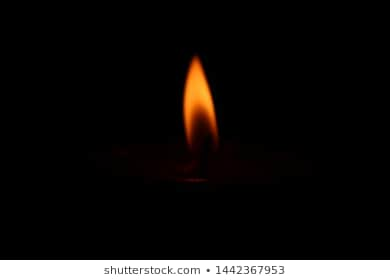Fire: (177, 56, 224, 143)
